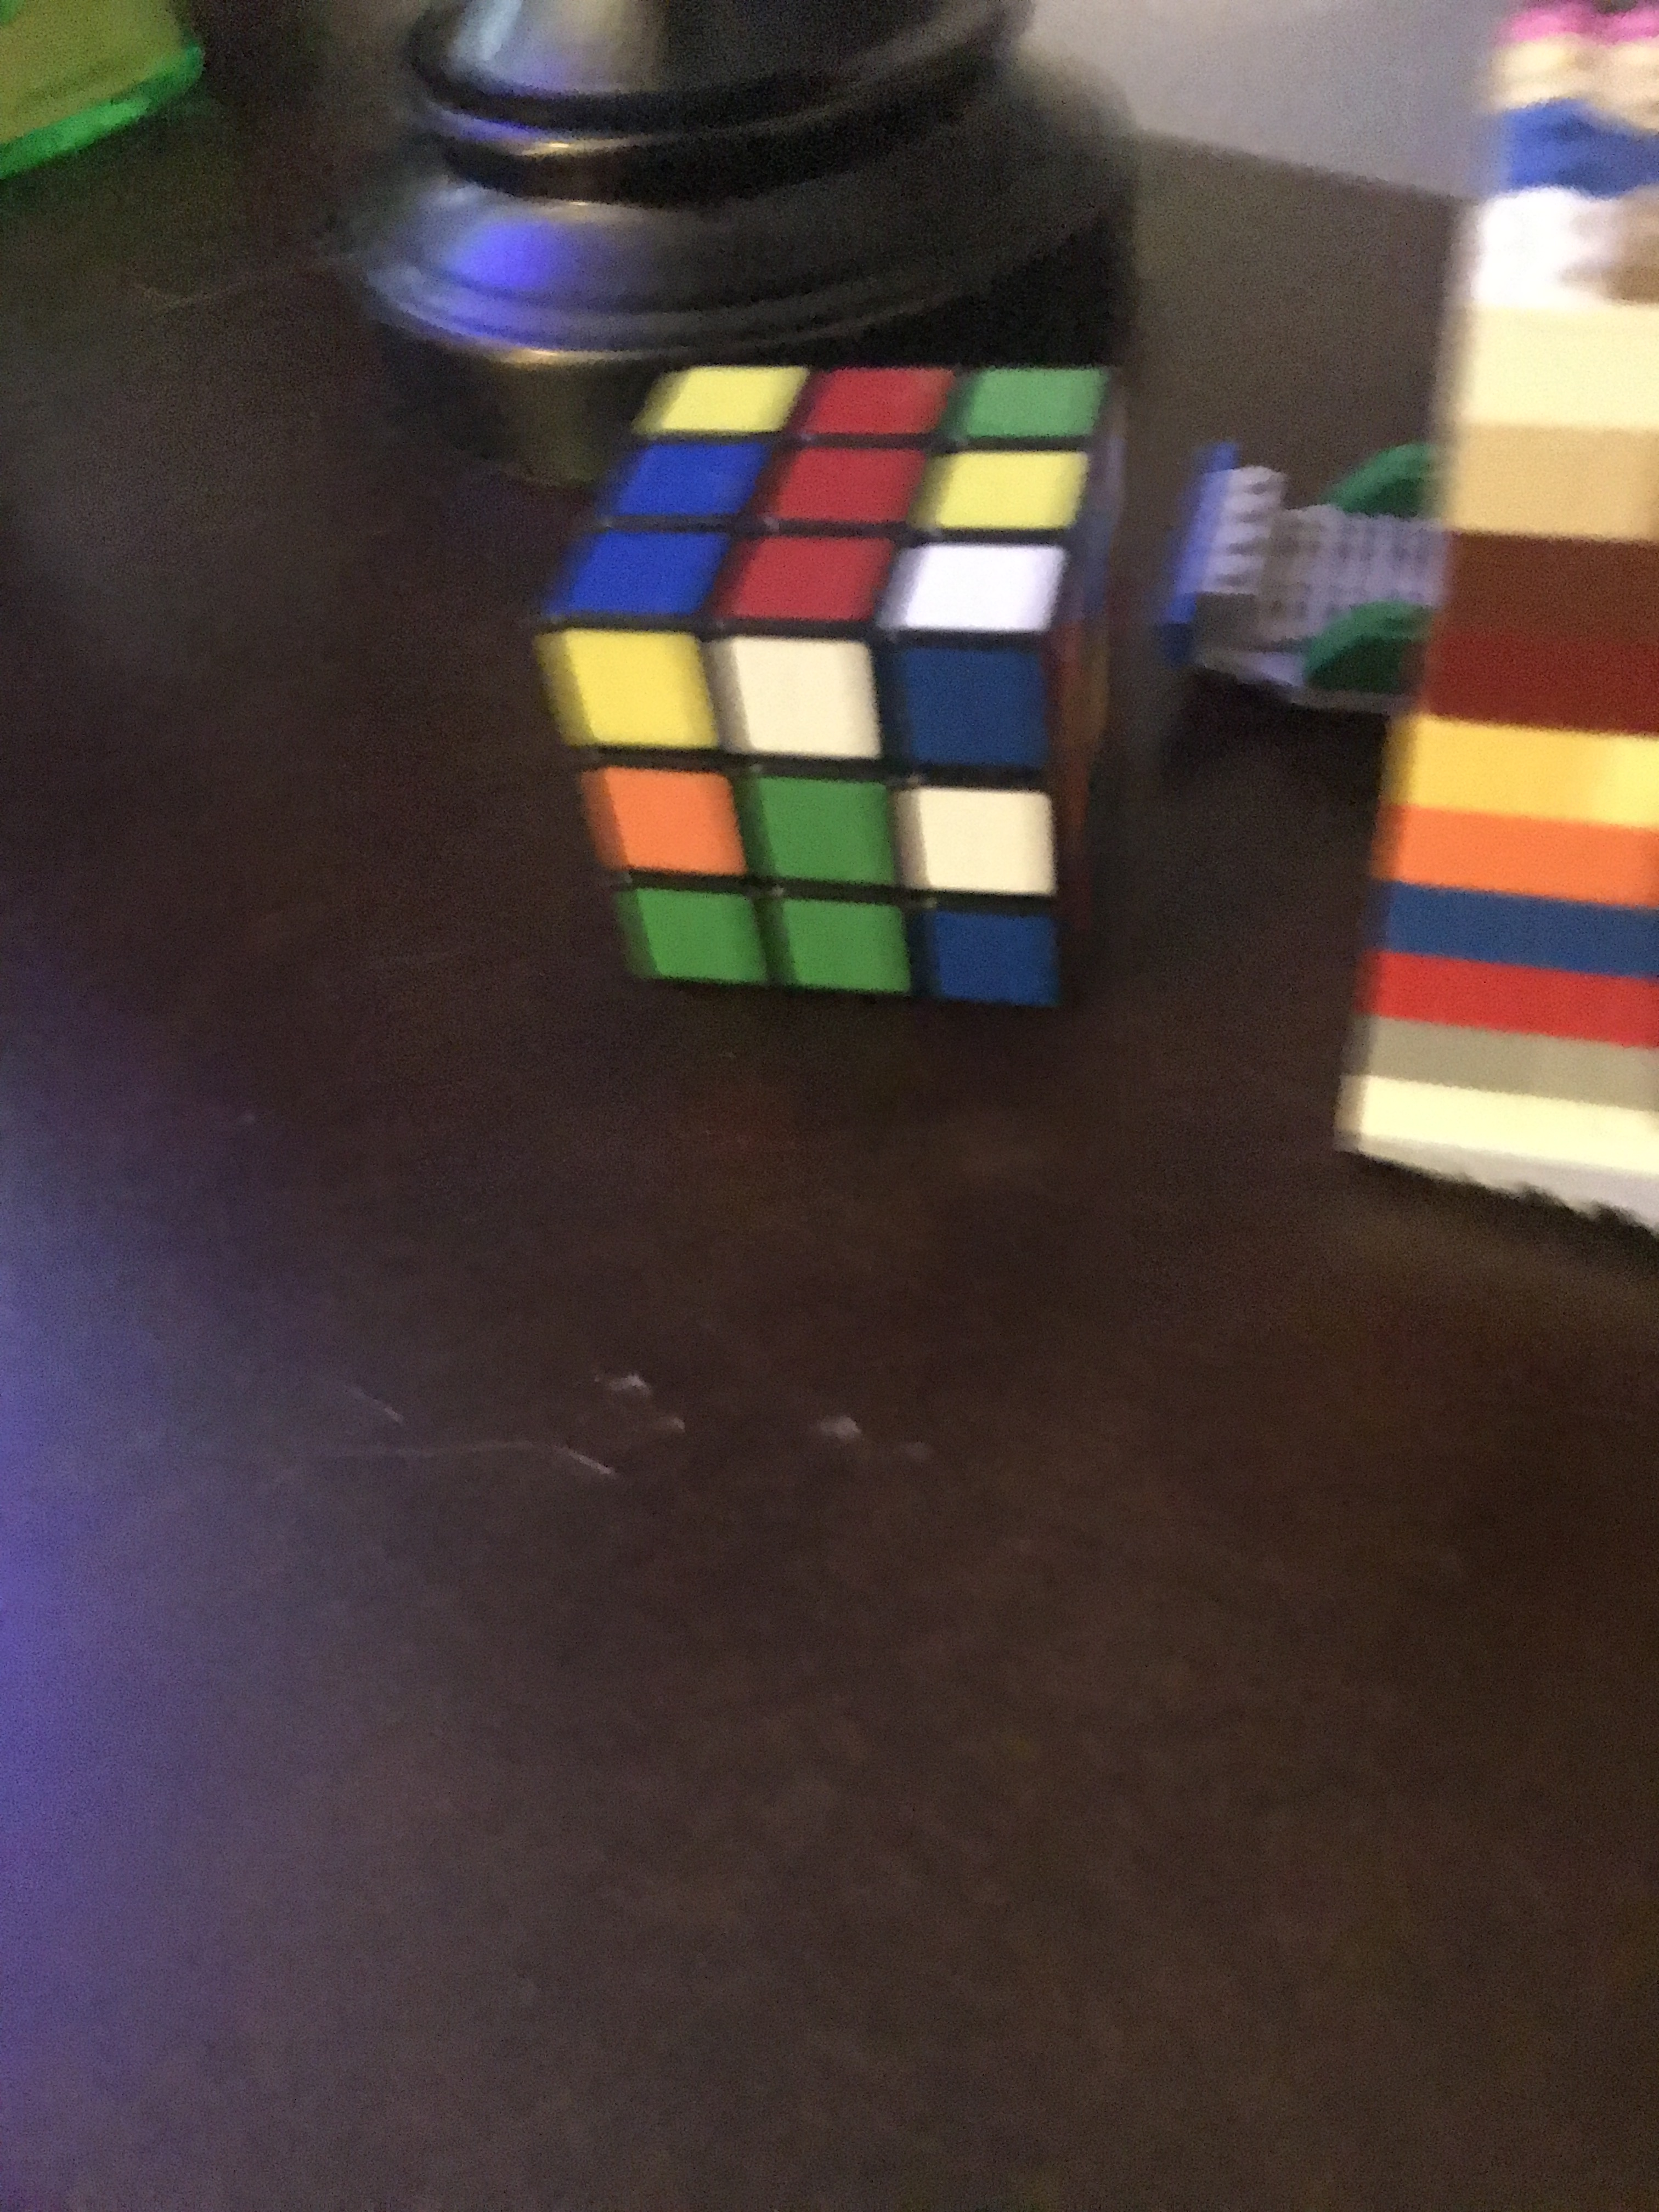rubiks: (525, 338, 1141, 1028)
